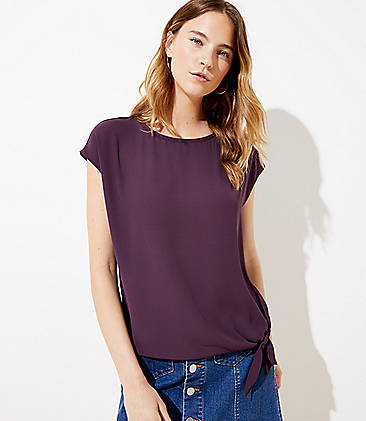C_short blouse: (75, 113, 278, 395)
